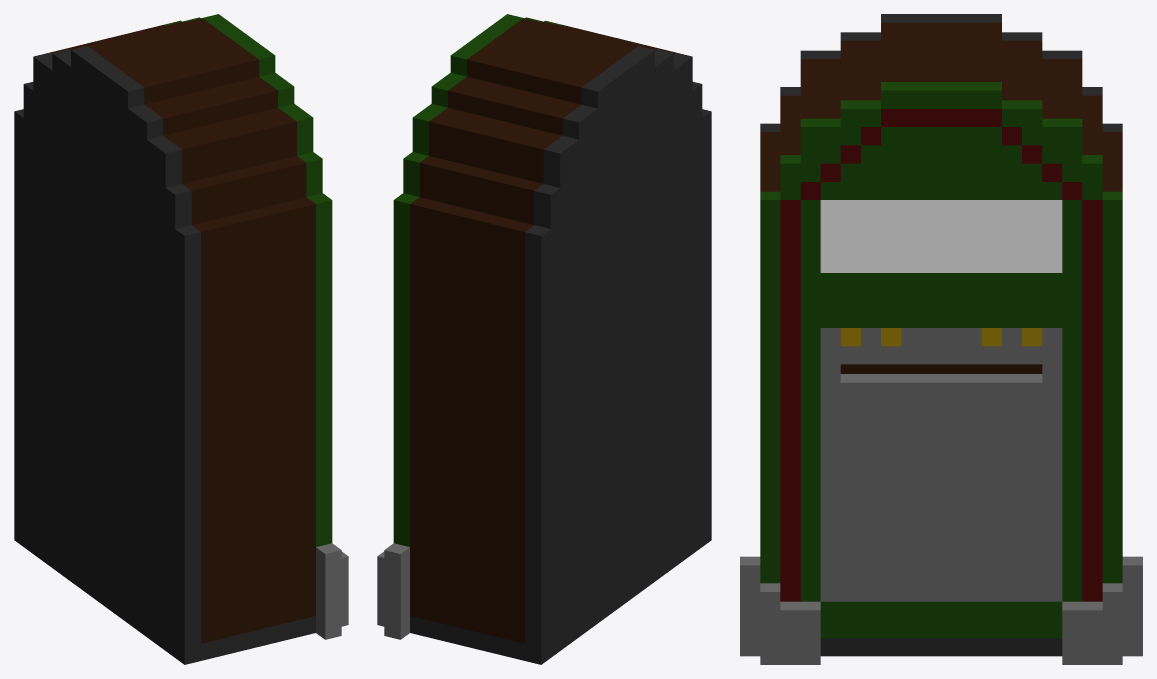
File: Level1-20-14-12.obj
3 views of the same model, side by side, from view 1: azimuth 30°, elevation 25°; view 2: azimuth 150°, elevation 25°; view 3: azimuth 270°, elevation 25° (orthographic). The views are drawn at different scales.
Parts seen in each view (by area): view 1: Level1-20-14-12; view 2: Level1-20-14-12; view 3: Level1-20-14-12.
Part boxes in pixels (x1,y1,x2,y2): Level1-20-14-12: [14, 14, 348, 664]; Level1-20-14-12: [377, 14, 711, 664]; Level1-20-14-12: [740, 14, 1142, 664].
Size of the model in its own units: 10 by 31 by 20.
Materials: 1 (1 with a texture image).
